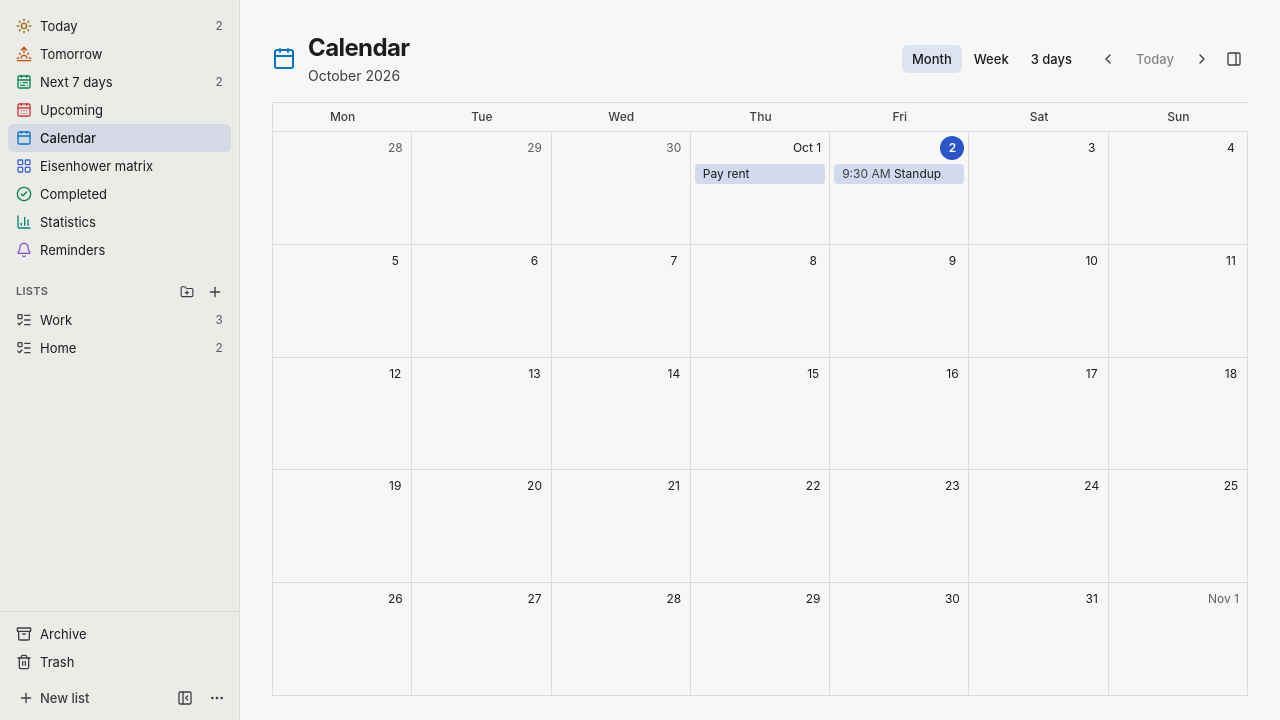
Test: Calendar › moves by month, and Today returns
This screenshot has width=1280, height=720.
expect the button "Today" is disabled: met, box top-left (1126, 45), bottom-right (1184, 73)
Click the button named "Next": point(1202, 59) top-left (1188, 45), bottom-right (1216, 73)
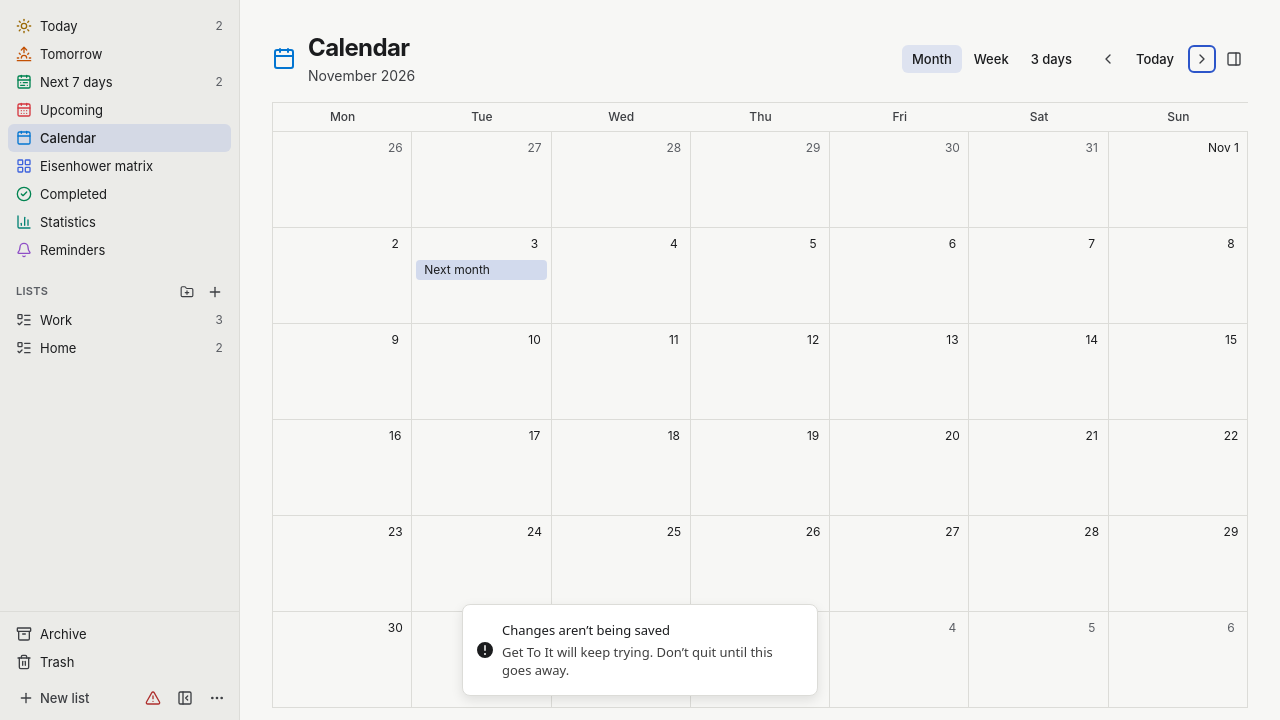
expect the text "November 2026" is shown: met, box top-left (308, 67), bottom-right (415, 84)
expect the button "Next month" is shown: met, box top-left (416, 260), bottom-right (547, 280)
expect the button "Today" is enabled: met, box top-left (1126, 45), bottom-right (1184, 73)
Click the button named "Previous": point(1108, 59) top-left (1094, 45), bottom-right (1122, 73)
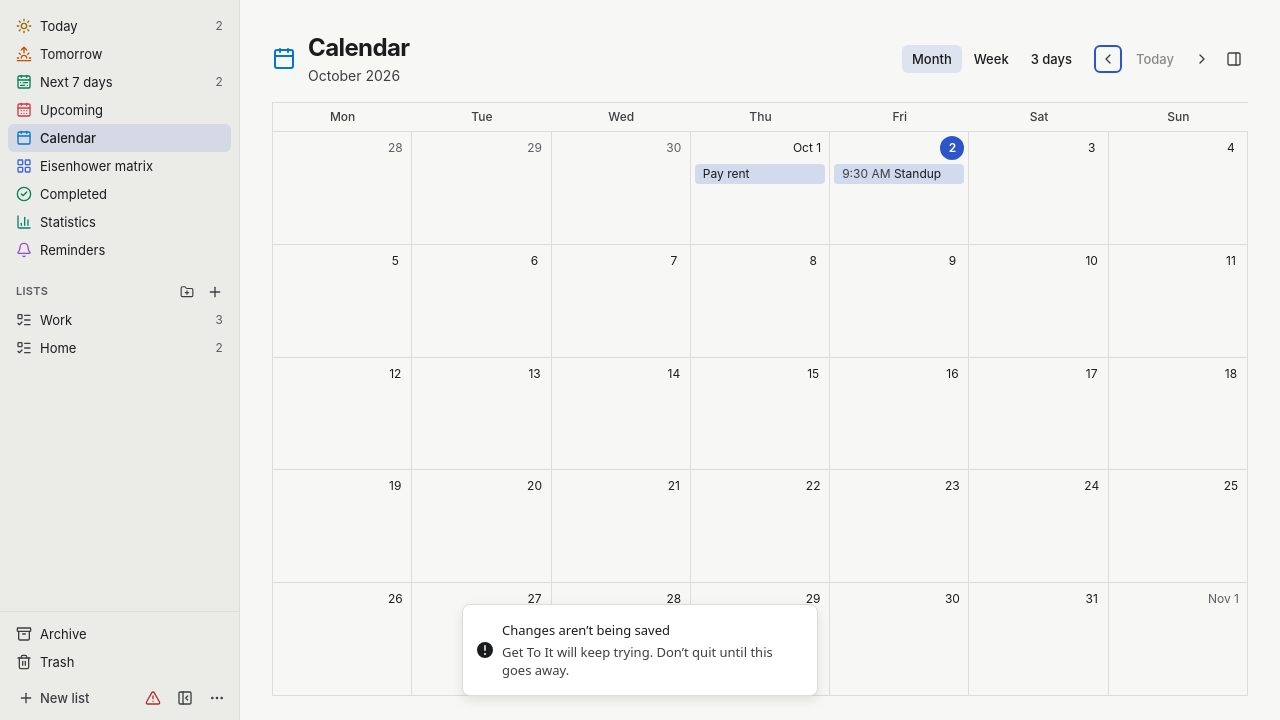
Click the button named "Previous": point(1108, 59) top-left (1094, 45), bottom-right (1122, 73)
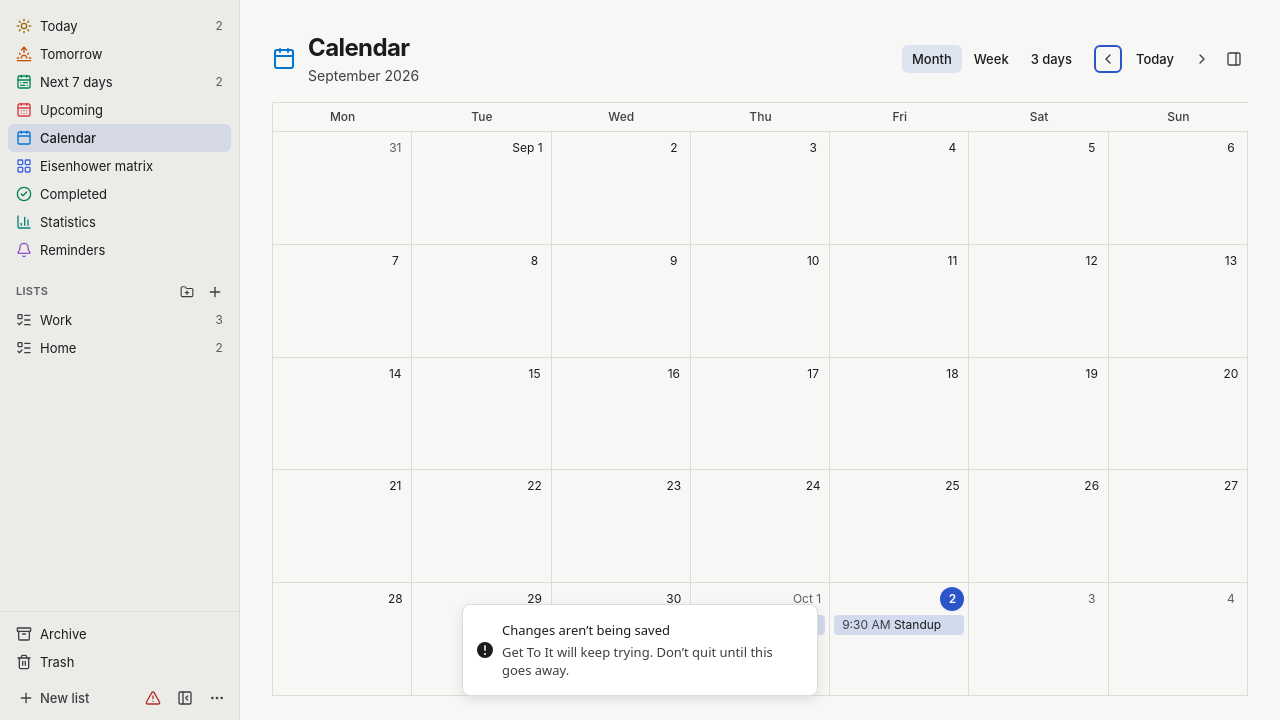
expect the text "September 2026" is shown: met, box top-left (308, 67), bottom-right (419, 84)
Click the button "Today": point(1155, 59) top-left (1126, 45), bottom-right (1184, 73)
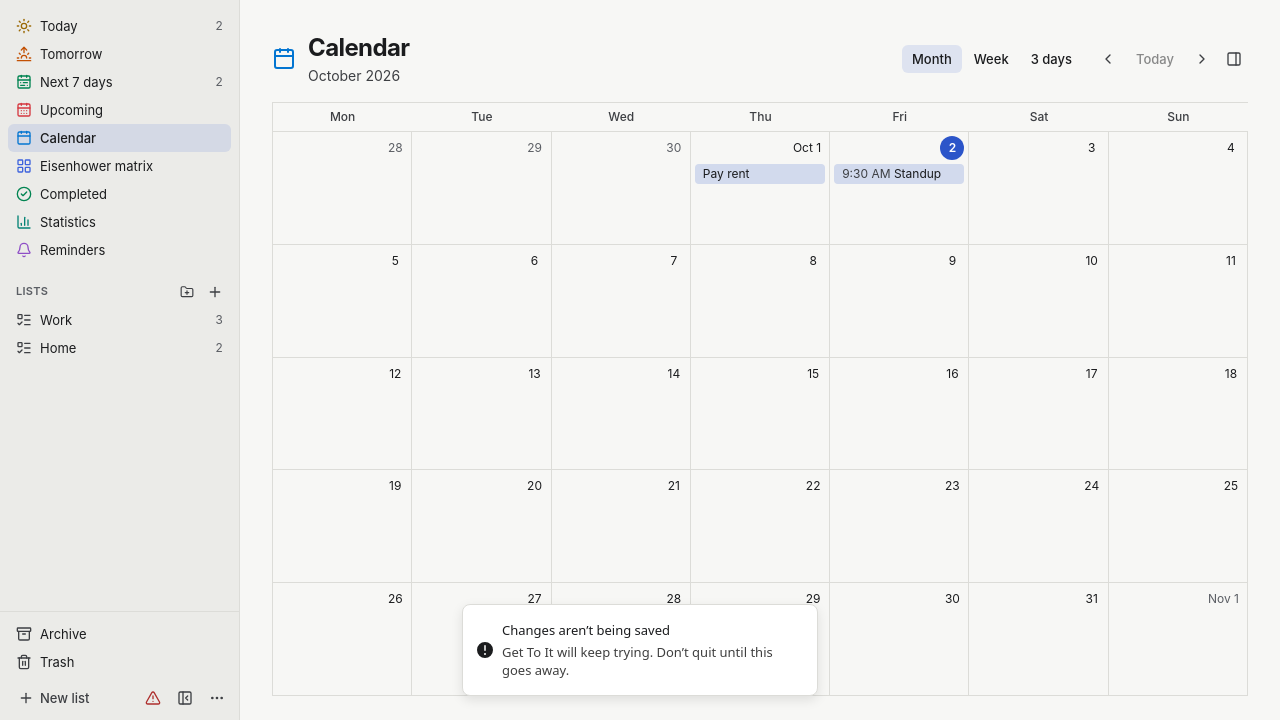
expect the text "October 2026" is shown: met, box top-left (308, 67), bottom-right (400, 84)
